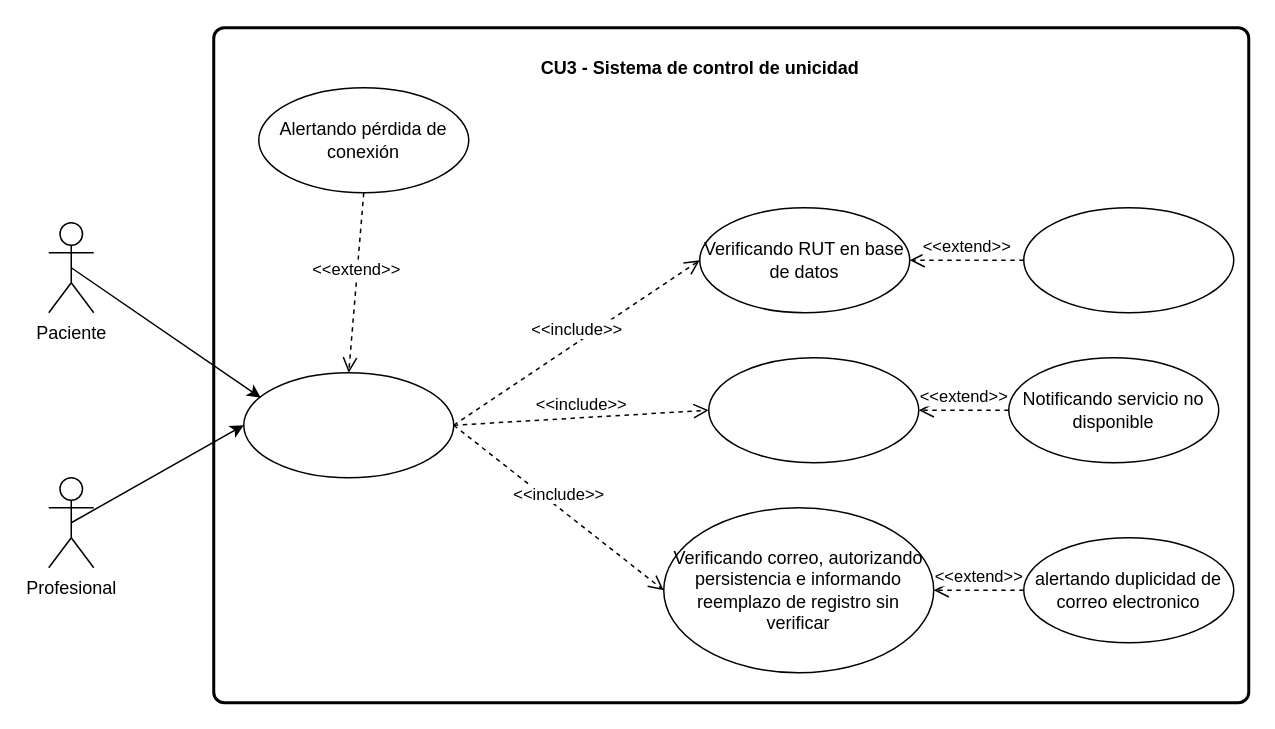
Image size: 1275x729. Some labels were removed from this diagram. The centre of each missing label's shape, as x and y in pixels:
"Aguardando respuesta del motor de validación" goes at [813,409].
"Enviando formulario de registro de nueva cuenta" goes at [348,424].
"Notificando cuenta verificada existente" goes at [1128,259].
